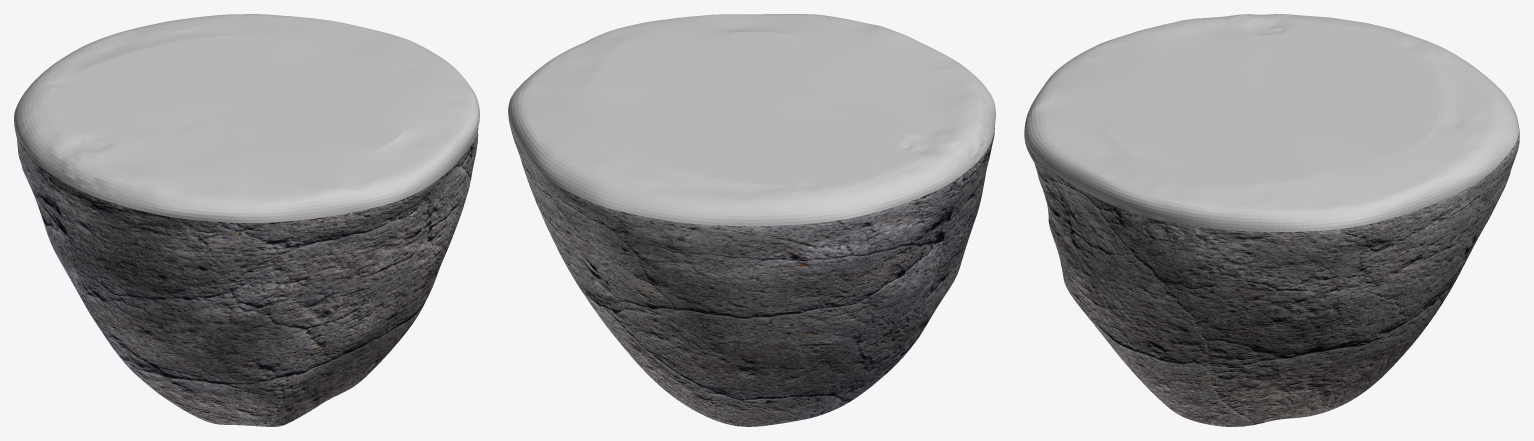
Rendered from insula5.fbx.
3 views of the same model, side by side, from view 1: azimuth 30°, elevation 25°; view 2: azimuth 150°, elevation 25°; view 3: azimuth 270°, elevation 25° (orthographic). The views are drawn at different scales.
Visible parts, largest first — view 1: Insula; view 2: Insula; view 3: Insula.
Part boxes in pixels (x1,y1,x2,y2): Insula: [14, 14, 479, 426]; Insula: [508, 14, 995, 426]; Insula: [1024, 14, 1519, 426].
Size of the model in its own units: 1232 by 863 by 1250.
